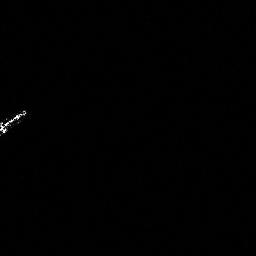ship: (1, 110, 26, 136)
